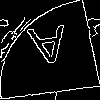A: (24, 25, 73, 76)
